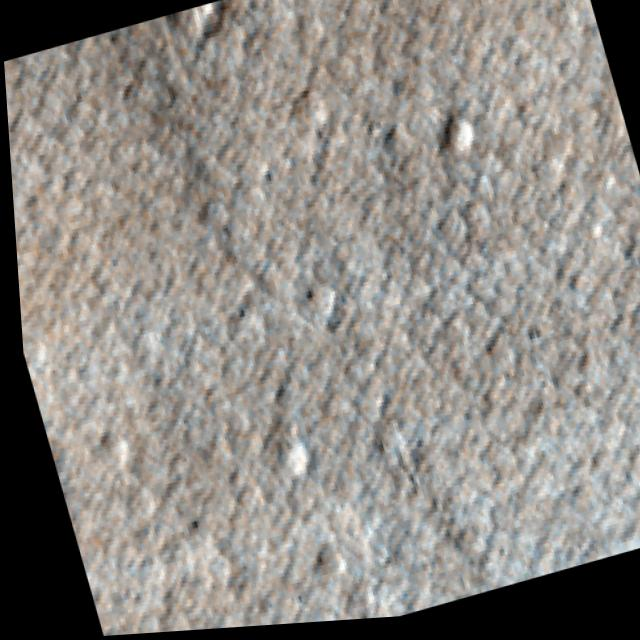Crater: (160, 2, 234, 62)
